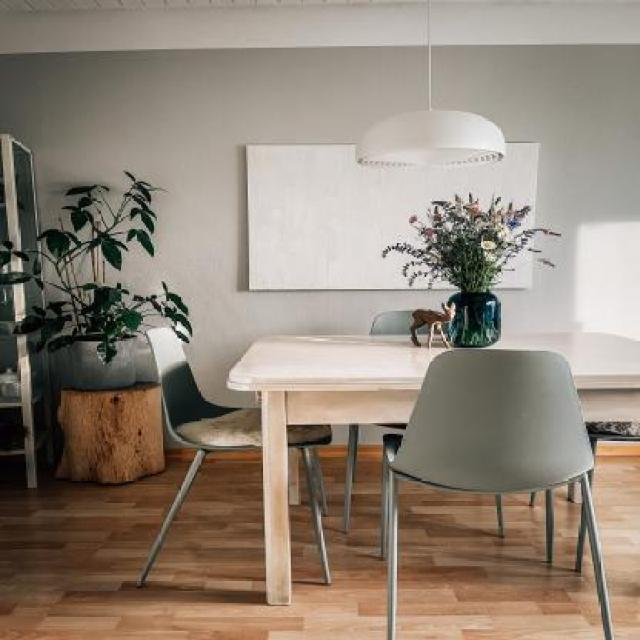floor: (0, 440, 388, 640), (390, 478, 606, 640), (597, 444, 640, 459)
